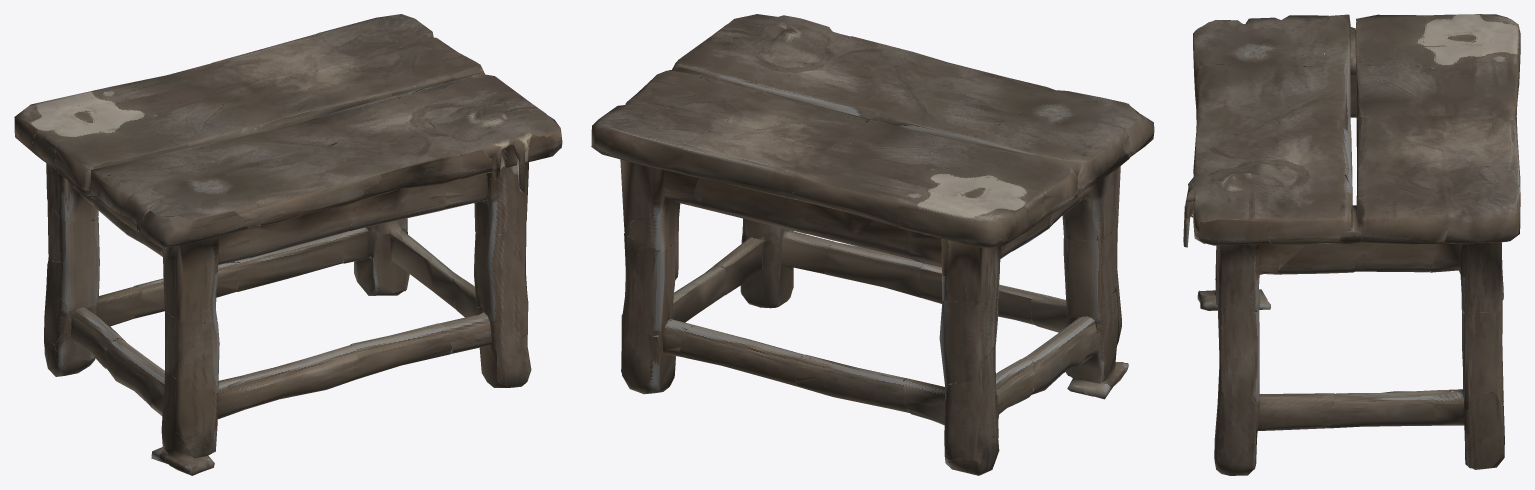
Rendered from mn_table.glb.
The picture shows the model from 3 angles, left to right: view 1: azimuth 30°, elevation 25°; view 2: azimuth 150°, elevation 25°; view 3: azimuth 270°, elevation 25°; orthographic projection. The views are drawn at different scales.
Visible parts, largest first — view 1: mn_table; view 2: mn_table; view 3: mn_table.
Part boxes in pixels (x1=…): mn_table: x1=14, y1=14, x2=562, y2=475; mn_table: x1=591, y1=14, x2=1154, y2=475; mn_table: x1=1183, y1=14, x2=1520, y2=475.
Bounding box in the file's own units: 1.23 × 0.8006 × 0.8533.
1 material, 1 textured.
